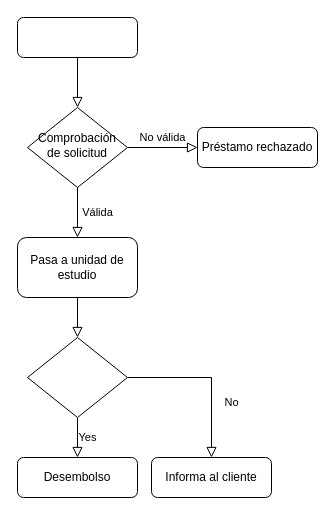
This 335x515 diagram has some shape labels left out. Here are the shapes that lost their labels. From the top down, the centre of each, then its label:
point 77,37: Solicitud de préstamo
point 77,377: Préstamo positivo?
